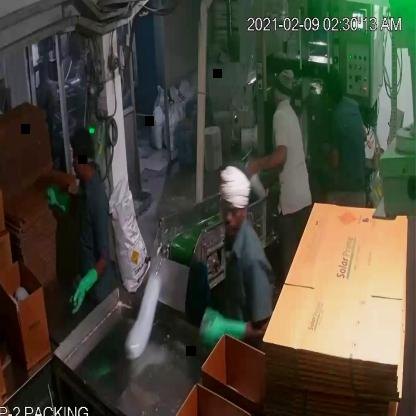glove: (198, 287, 251, 355), (65, 250, 104, 320), (38, 176, 80, 223)
no_glove: (242, 138, 290, 176)
